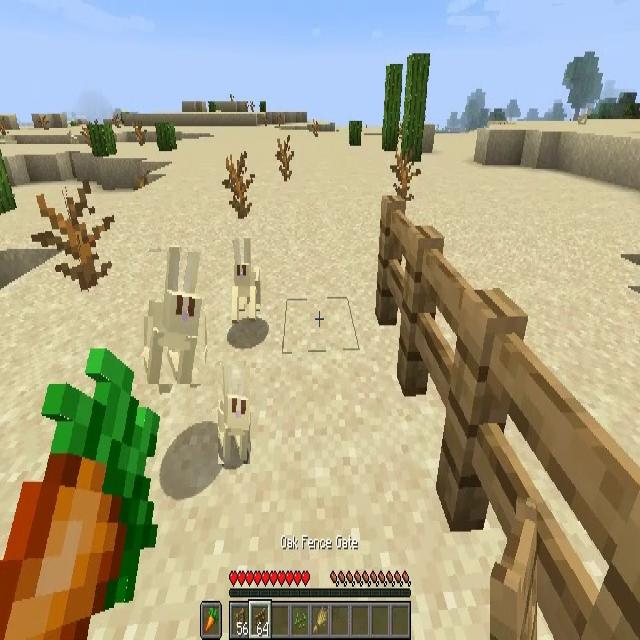rabbit: (144, 252, 205, 384), (218, 366, 250, 464), (232, 239, 262, 323)
